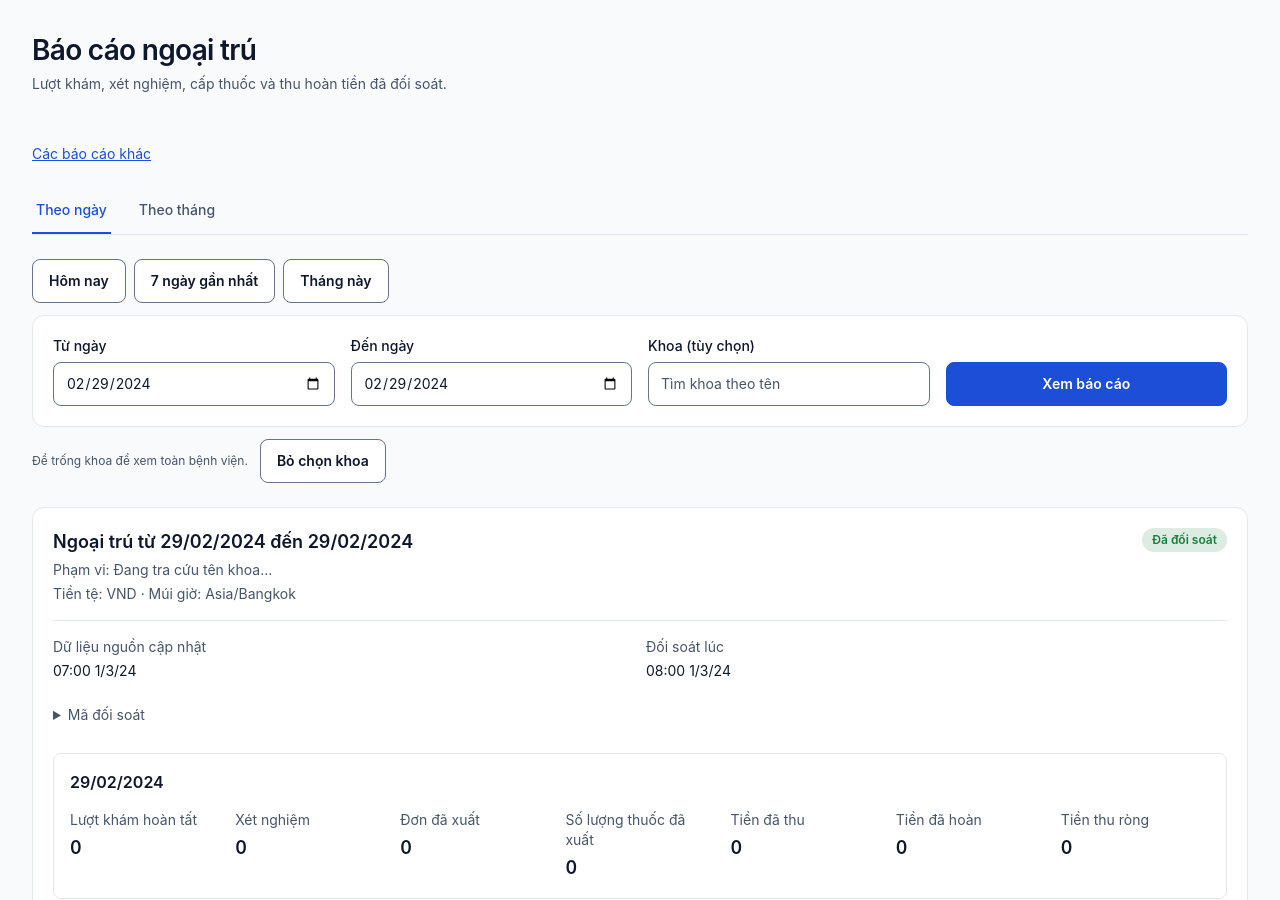
Outpatient report workspace › renders accepted zero periods with response currency, zone, scope and provenance
expect the text "Phạm vi: Đang tra cứu tên khoa…" is shown: met, box 53,561 -> 272,578
expect the text "Tiền tệ: VND · Múi giờ: Asia/Bangkok" is shown: met, box 53,585 -> 296,602
Type "2024-03-01" into the date field labelled "Đến ngày" at x=491, y=384, box 350,362 -> 632,406
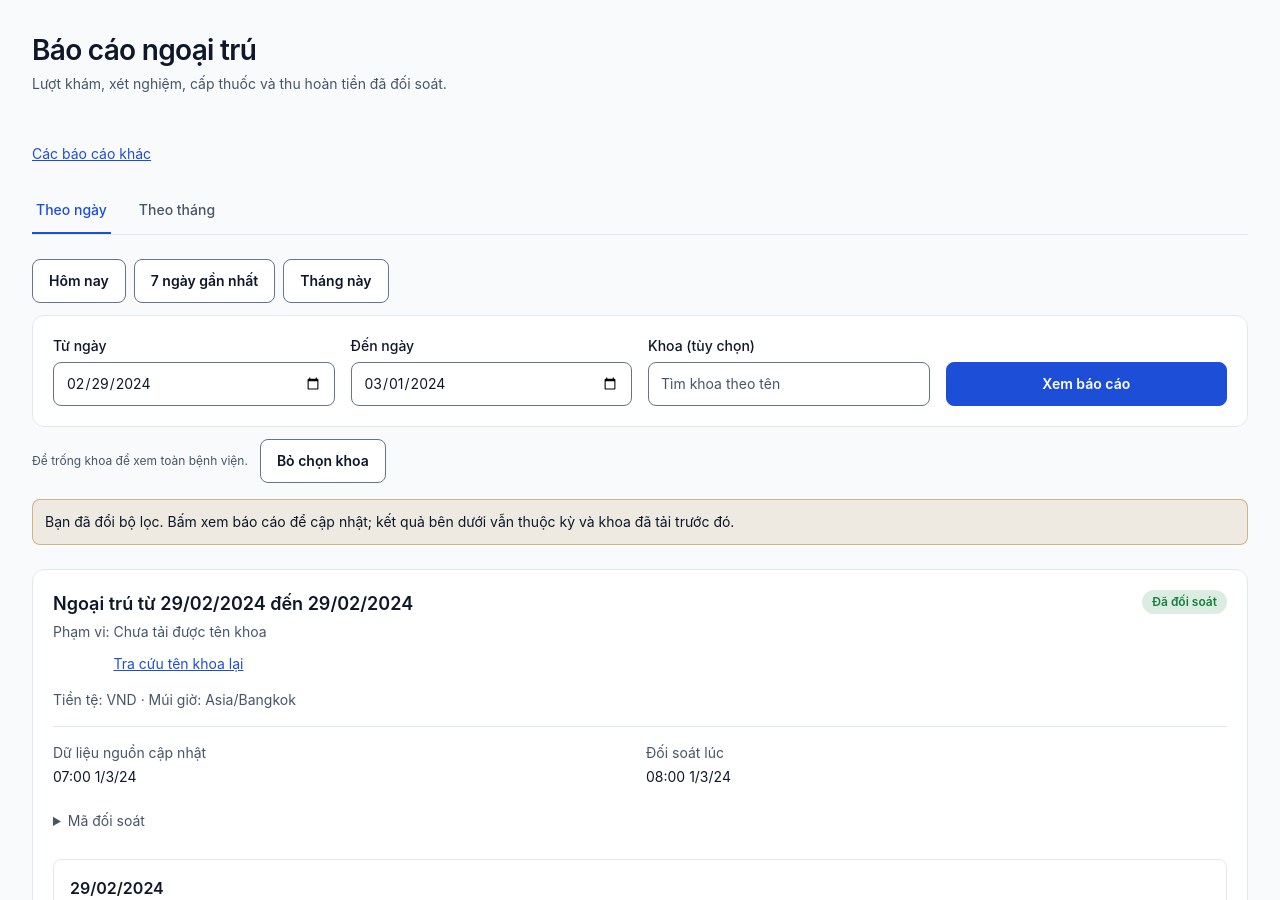
expect the heading "Ngoại trú từ 29/02/2024 đến 29/02/2024" is shown: met, box 53,590 -> 413,618
expect the text "Bạn đã đổi bộ lọc" is shown: met, box 45,513 -> 734,530
